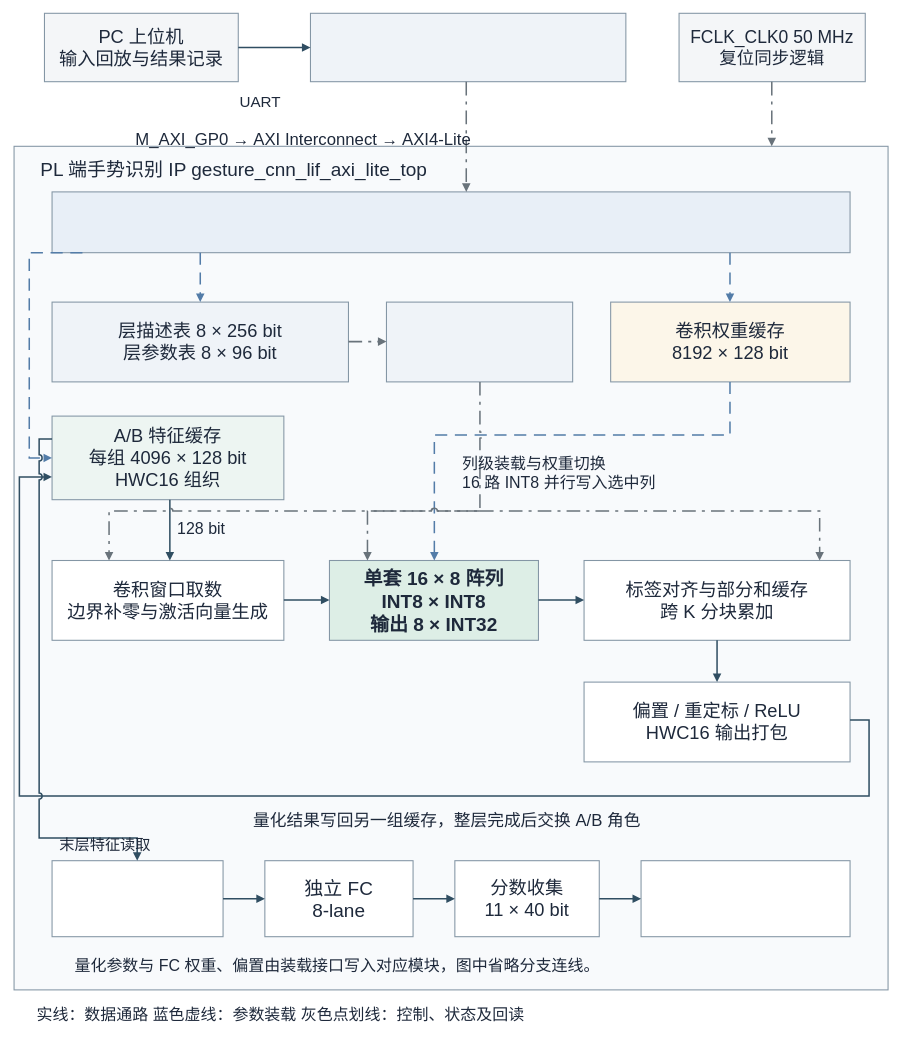
Some shapes in this 901 by 1037 pixel diagram are drawn without their labels. The shapes that lost their labels are listed below. From the top down, each one's centre as x and y in pixels, then its label:
At point (468, 47): "Zynq PS 端 ARM 接收解码、参数装载、逐帧调度与早退".
At point (450, 222): "AXI4-Lite 从接口与寄存器 装载目标 / 地址 / 数据暂存 / 提交 · 启动 / 状态 / 结果回读".
At point (479, 341): "层间调度 层索引与 A/B 切换".
At point (137, 898): "GAP 与重定标 64 维 INT8".
At point (745, 898): "独立 LIF 膜电位 / 脉冲计数 序列分类结果".
